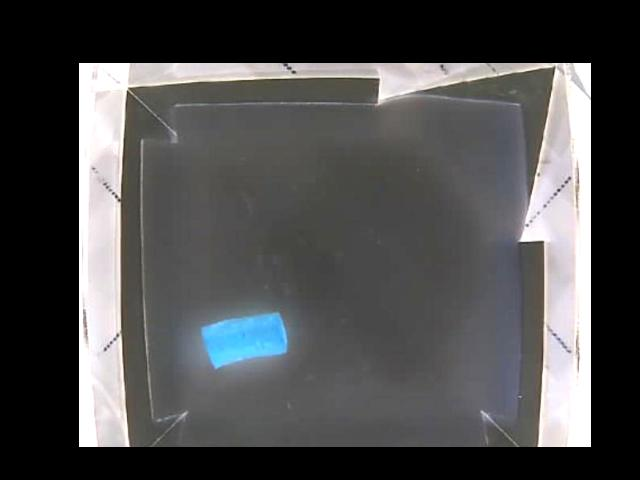Carrot: (197, 311, 286, 370)
